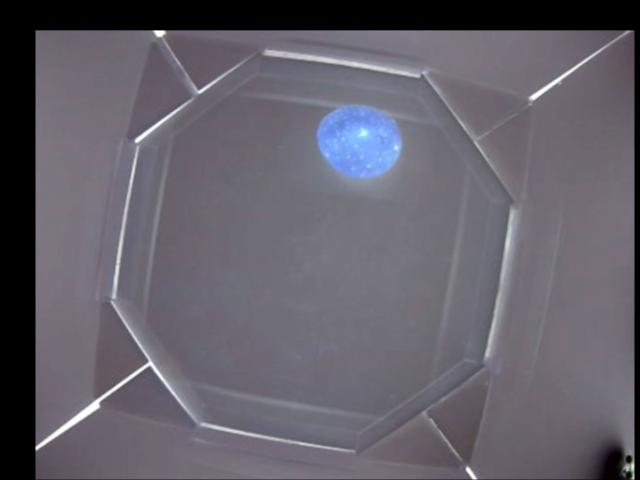Potato: (320, 104, 399, 173)
